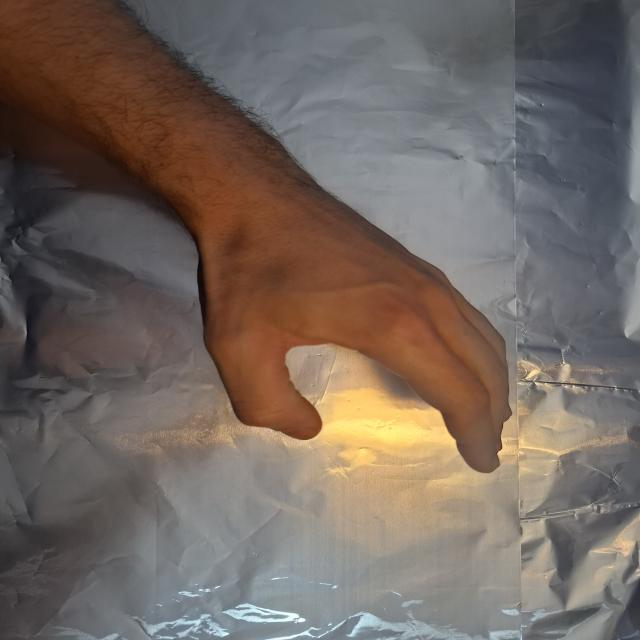glove_off: (194, 195, 516, 475)
